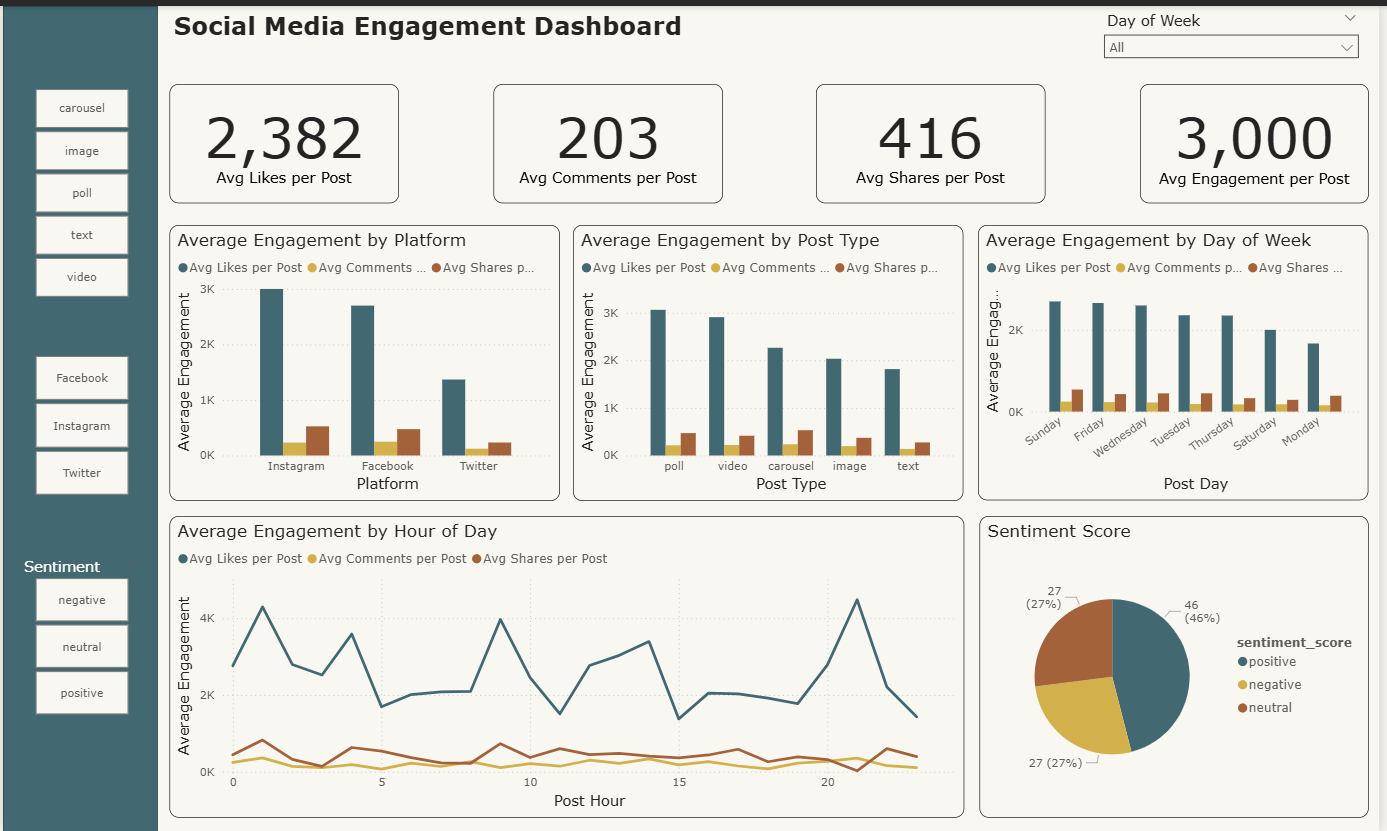

This screenshot's page, from the dashboard's own definition file:
{"tool":"powerbi","page":{"name":"Page 1","canvas":[1500,900],"ordinal":0},"visuals":[{"type":"textbox","box":[181.6,0,621.8,60.5],"z":0},{"type":"card","fields":{"Values":["cleaned_social_media_engagement.Avg Likes per Post"]},"box":[181.6,84.4,250,130],"z":1000},{"type":"card","fields":{"Values":["cleaned_social_media_engagement.Avg Comments per Post"]},"box":[533.8,84.4,250,130],"z":2000},{"type":"card","fields":{"Values":["cleaned_social_media_engagement.Avg Shares per Post"]},"box":[886,84.4,250,130],"z":3000},{"type":"card","fields":{"Values":["cleaned_social_media_engagement.Avg Total Engagement per Post"]},"box":[1238.1,84.4,249.5,130.2],"z":4000},{"type":"clusteredColumnChart","title":"Average Engagement by Platform","fields":{"Category":["cleaned_social_media_engagement.platform"],"Y":["cleaned_social_media_engagement.Avg Likes per Post","cleaned_social_media_engagement.Avg Comments per Post","cleaned_social_media_engagement.Avg Shares per Post"]},"box":[181.6,238.5,425.6,300.8],"z":5000},{"type":"clusteredColumnChart","title":"Average Engagement by Post Type","fields":{"Category":["cleaned_social_media_engagement.post_type"],"Y":["cleaned_social_media_engagement.Avg Likes per Post","cleaned_social_media_engagement.Avg Comments per Post","cleaned_social_media_engagement.Avg Shares per Post"]},"box":[621.8,238.5,425.6,300.8],"z":6000},{"type":"clusteredColumnChart","title":"Average Engagement by Day of Week","fields":{"Category":["cleaned_social_media_engagement.post_day"],"Y":["cleaned_social_media_engagement.Avg Likes per Post","cleaned_social_media_engagement.Avg Comments per Post","cleaned_social_media_engagement.Avg Shares per Post"]},"box":[1062,238.5,425,300],"z":7000},{"type":"lineChart","title":"Average Engagement by Hour of Day","fields":{"Category":["cleaned_social_media_engagement.post_hour"],"Y":["cleaned_social_media_engagement.Avg Likes per Post","cleaned_social_media_engagement.Avg Comments per Post","cleaned_social_media_engagement.Avg Shares per Post"]},"box":[181.6,555.8,865.8,328.3],"z":8000},{"type":"pieChart","title":"Sentiment Score","fields":{"Y":["CountNonNull(cleaned_social_media_engagement.sentiment_score)"],"Category":["cleaned_social_media_engagement.sentiment_score"]},"box":[1063.9,555.8,423.7,328.3],"z":9000},{"type":"slicer","fields":{"Values":["cleaned_social_media_engagement.post_day"]},"box":[1190.4,0,297.2,60],"z":11000},{"type":"shape","box":[0,0,168.8,900.6],"z":14000},{"type":"slicer","fields":{"Values":["cleaned_social_media_engagement.post_type"]},"box":[9.2,82.5,150.4,240.3],"z":14500},{"type":"slicer","fields":{"Values":["cleaned_social_media_engagement.platform"]},"box":[9.2,374.2,150.4,165.1],"z":15000},{"type":"slicer","fields":{"Values":["cleaned_social_media_engagement.sentiment_score"]},"box":[9.2,594.3,150.4,183.4],"z":15500}]}

Visuals, with their boxes in screenshot pixels (x1, y1, x2, y2):
textbox: select_region(165, 0, 731, 5)
card - cleaned_social_media_engagement.Avg Likes per Post: select_region(165, 26, 393, 145)
card - cleaned_social_media_engagement.Avg Comments per Post: select_region(486, 26, 713, 145)
card - cleaned_social_media_engagement.Avg Shares per Post: select_region(807, 26, 1034, 145)
card - cleaned_social_media_engagement.Avg Total Engagement per Post: select_region(1127, 26, 1354, 145)
"Average Engagement by Platform" clusteredColumnChart: select_region(165, 167, 553, 440)
"Average Engagement by Post Type" clusteredColumnChart: select_region(566, 167, 953, 440)
"Average Engagement by Day of Week" clusteredColumnChart: select_region(967, 167, 1354, 440)
"Average Engagement by Hour of Day" lineChart: select_region(165, 455, 953, 754)
"Sentiment Score" pieChart: select_region(968, 455, 1354, 754)
slicer - cleaned_social_media_engagement.post_day: select_region(1084, 0, 1354, 4)
shape: select_region(0, 0, 154, 769)
slicer - cleaned_social_media_engagement.post_type: select_region(8, 25, 145, 243)
slicer - cleaned_social_media_engagement.platform: select_region(8, 290, 145, 440)
slicer - cleaned_social_media_engagement.sentiment_score: select_region(8, 490, 145, 657)
